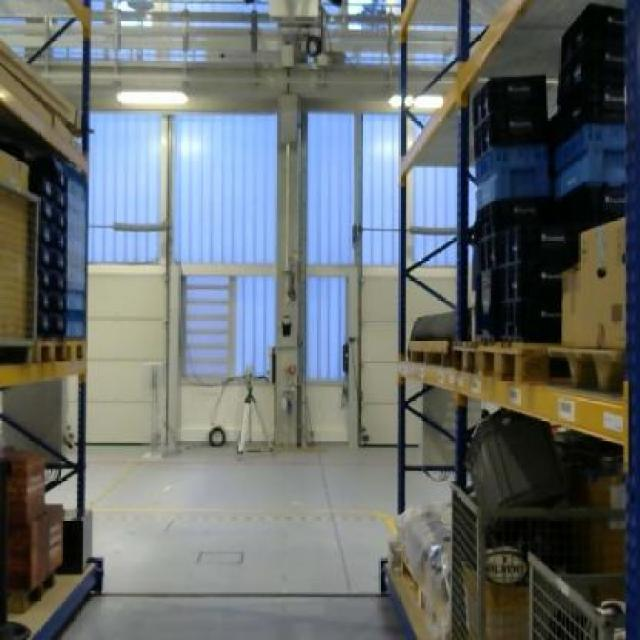box: (574, 214, 624, 348), (0, 153, 31, 339)
